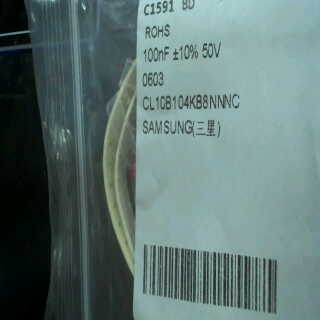100nF: (140, 41, 172, 67)
